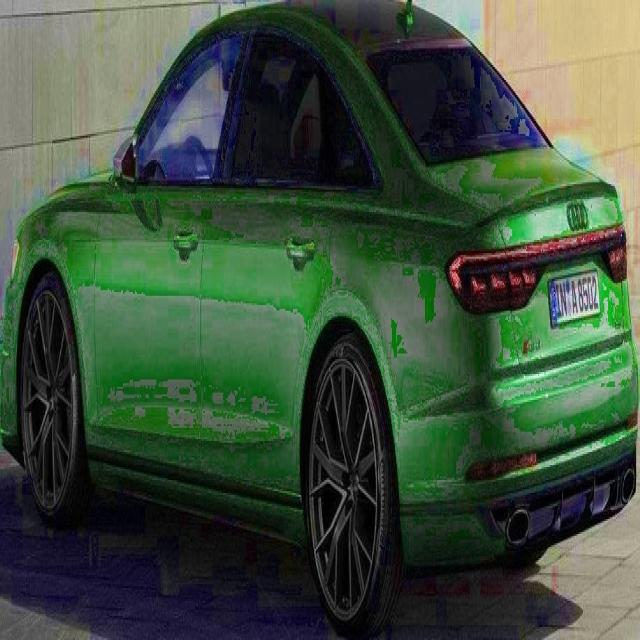green: (1, 7, 640, 631)
